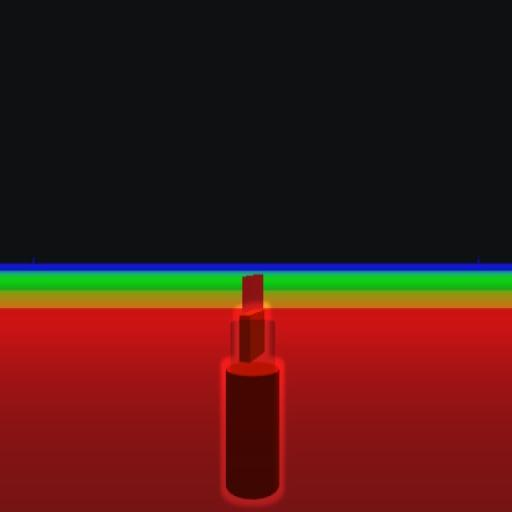buoy: (223, 307, 282, 501)
